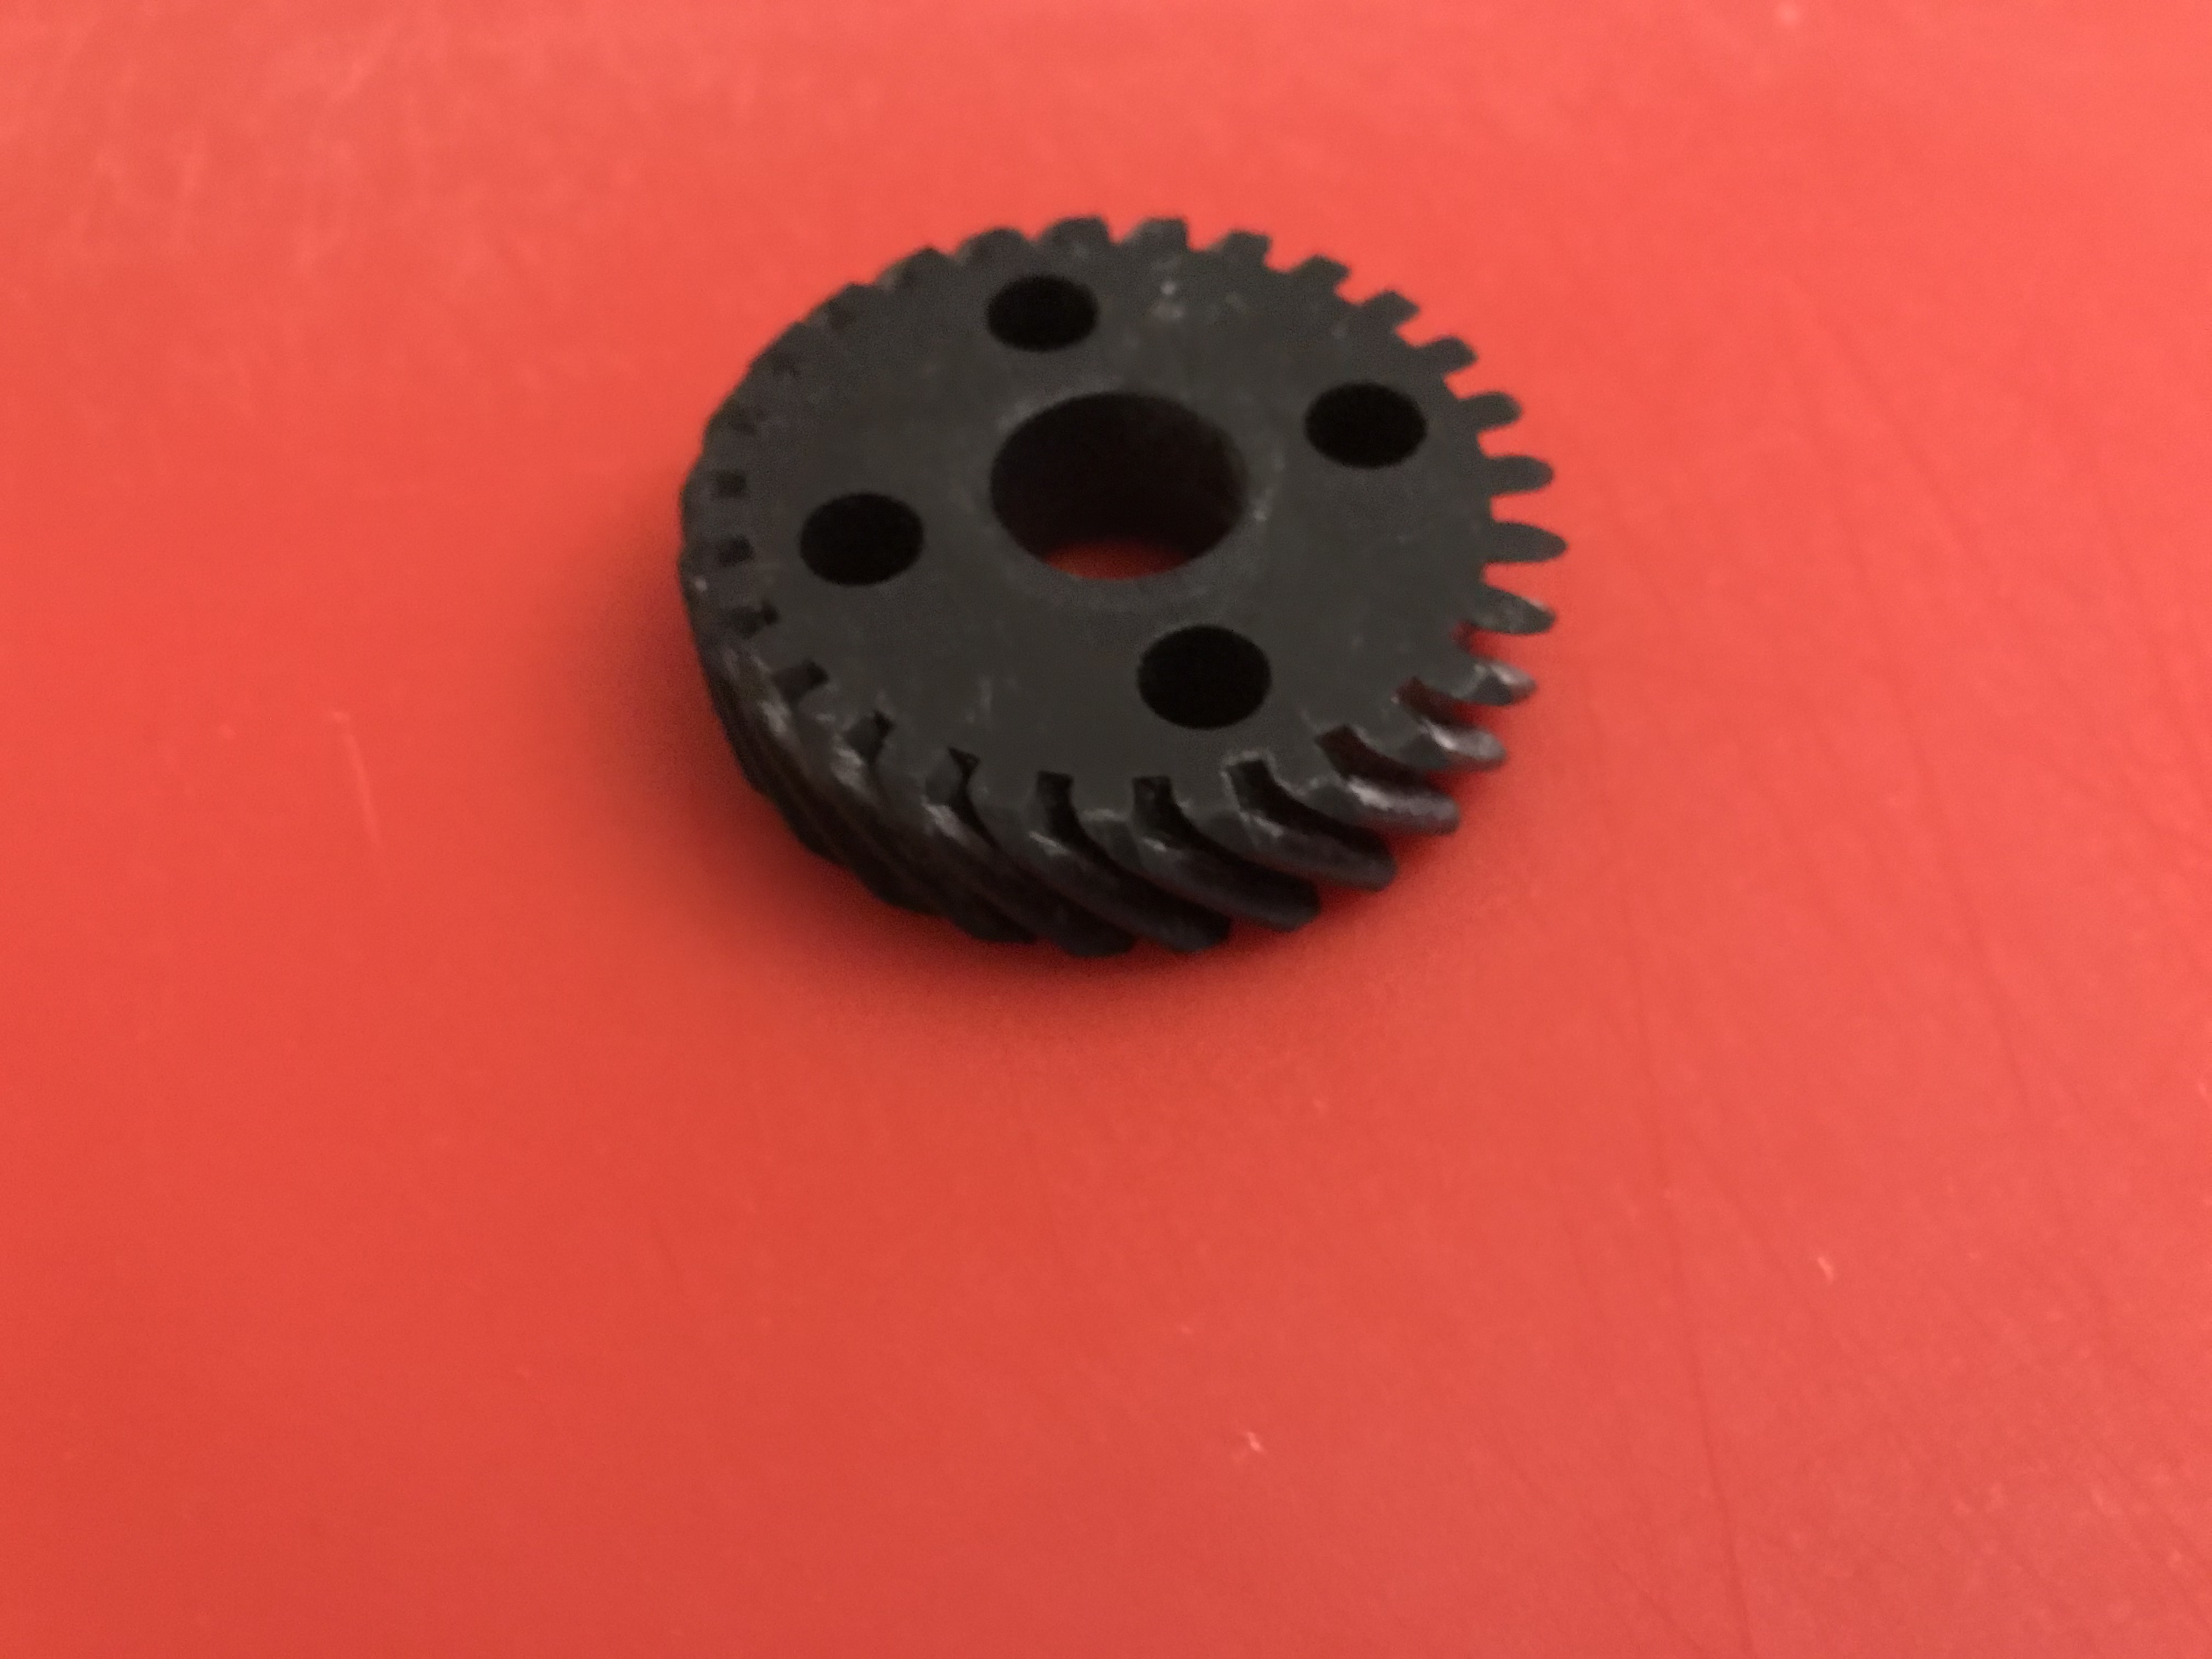Wheel: (651, 204, 1578, 979)
